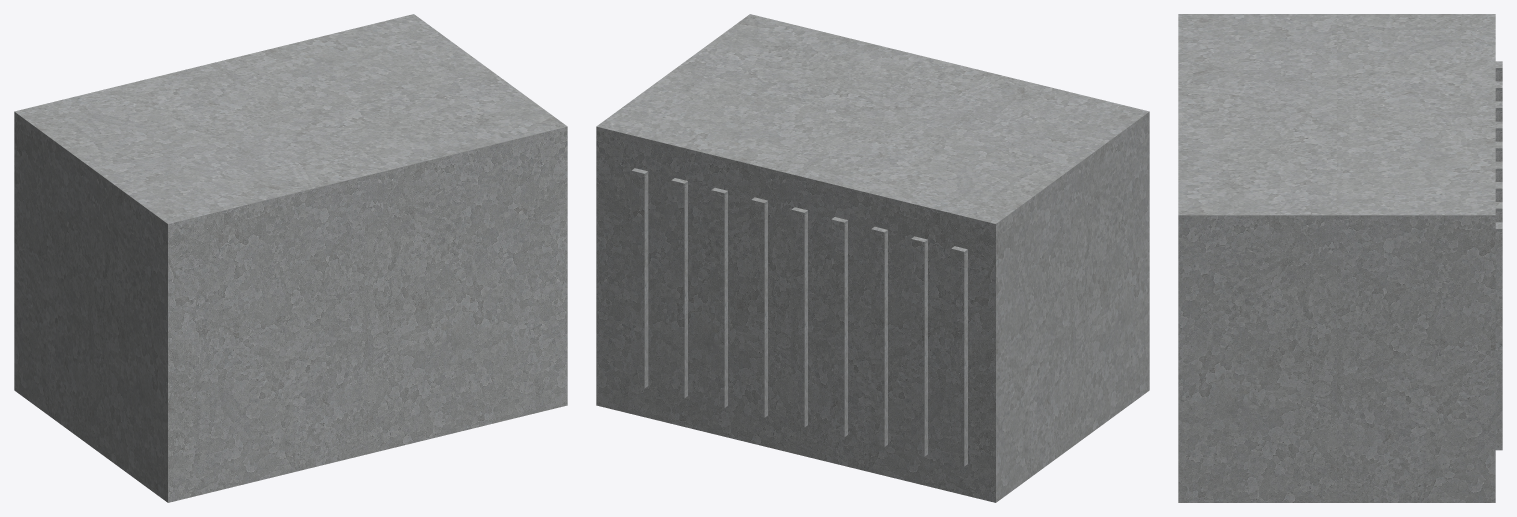
The model's file is rooftop_hvac.obj.
The picture shows the model from 3 angles, left to right: view 1: azimuth 30°, elevation 25°; view 2: azimuth 150°, elevation 25°; view 3: azimuth 270°, elevation 25°; orthographic projection. The views are drawn at different scales.
Visible parts, largest first — view 1: AC_White; view 2: AC_White, Dark_Frame; view 3: AC_White, Dark_Frame.
Boxes of the visible parts, x1,y1,x2,y2 form: AC_White: [14, 14, 567, 502]; AC_White: [596, 14, 1149, 502]; Dark_Frame: [631, 168, 967, 466]; AC_White: [1178, 14, 1495, 502]; Dark_Frame: [1495, 61, 1502, 450].
Size of the model in its own units: 1.5 by 1 by 1.02.
